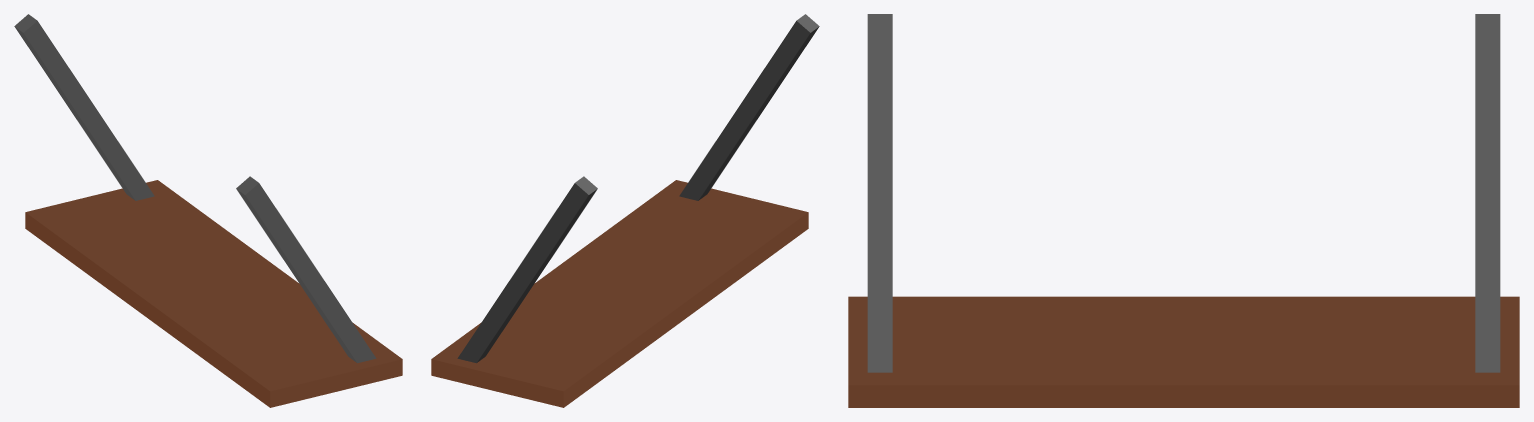
Rendered from etagere.fbx.
The picture shows the model from 3 angles, left to right: view 1: azimuth 30°, elevation 25°; view 2: azimuth 150°, elevation 25°; view 3: azimuth 270°, elevation 25°; orthographic projection. The views are drawn at different scales.
Parts seen in each view (by area): view 1: Etagere11; view 2: Etagere11; view 3: Etagere11.
Boxes of the visible parts, x1,y1,x2,y2 form: Etagere11: [14, 14, 402, 407]; Etagere11: [431, 14, 819, 407]; Etagere11: [848, 14, 1519, 407].
Size of the model in its own units: 64.88 by 90.99 by 183.
